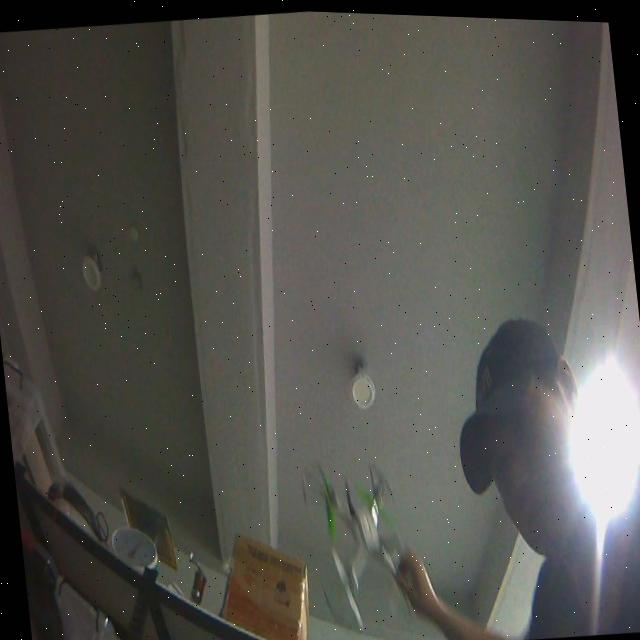drone: (298, 447, 421, 633)
